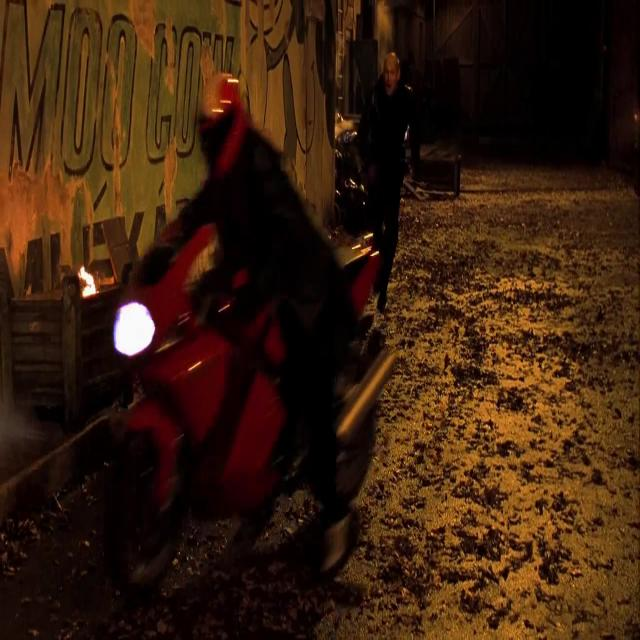Motorbike: (80, 233, 391, 592)
People: (196, 75, 344, 421), (356, 52, 436, 320)
